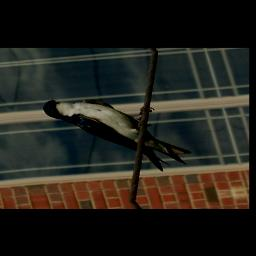Swallow: (40, 89, 198, 181)
